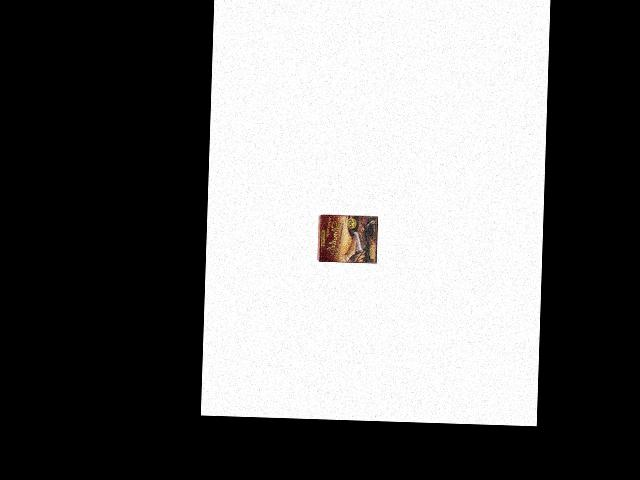chocolate: (317, 214, 378, 263)
